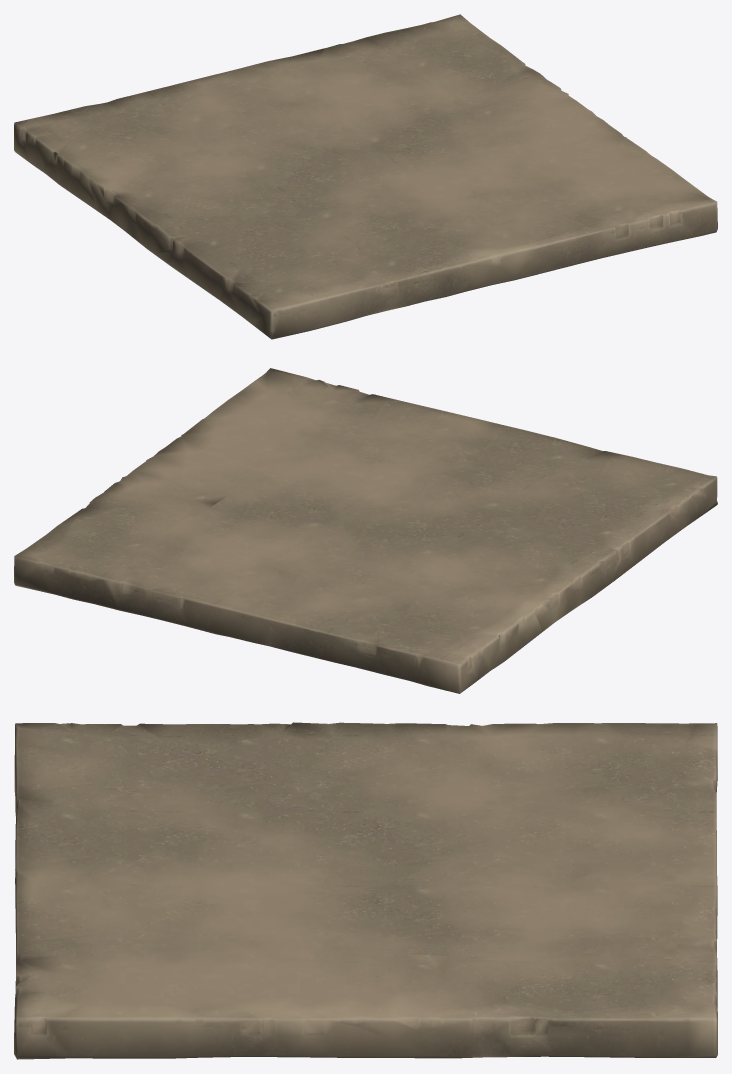
Rendered from slab0-cantera.glb.
3 views of the same model, one above another, from view 1: azimuth 30°, elevation 25°; view 2: azimuth 150°, elevation 25°; view 3: azimuth 270°, elevation 25° (orthographic). The views are drawn at different scales.
Visible parts, largest first — view 1: slab0; view 2: slab0; view 3: slab0.
Part boxes in pixels (x1,y1,x2,y2): slab0: (14, 14, 717, 339); slab0: (14, 368, 717, 693); slab0: (14, 722, 717, 1059).
Bounding box in the file's own units: 0.9902 × 0.0648 × 0.9897.
1 material, 1 textured.
